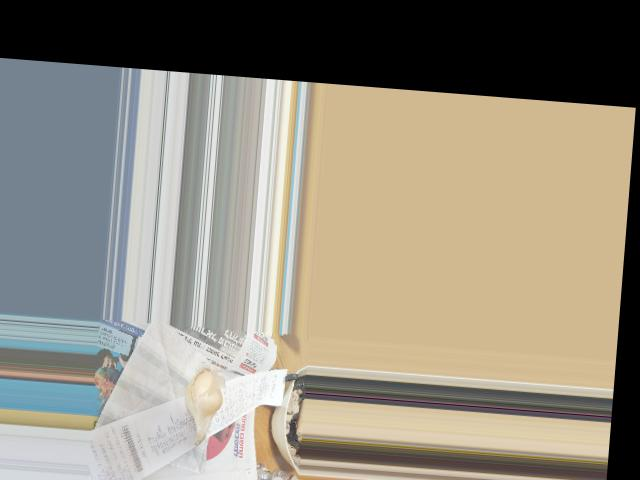onion: (184, 368, 222, 425)
